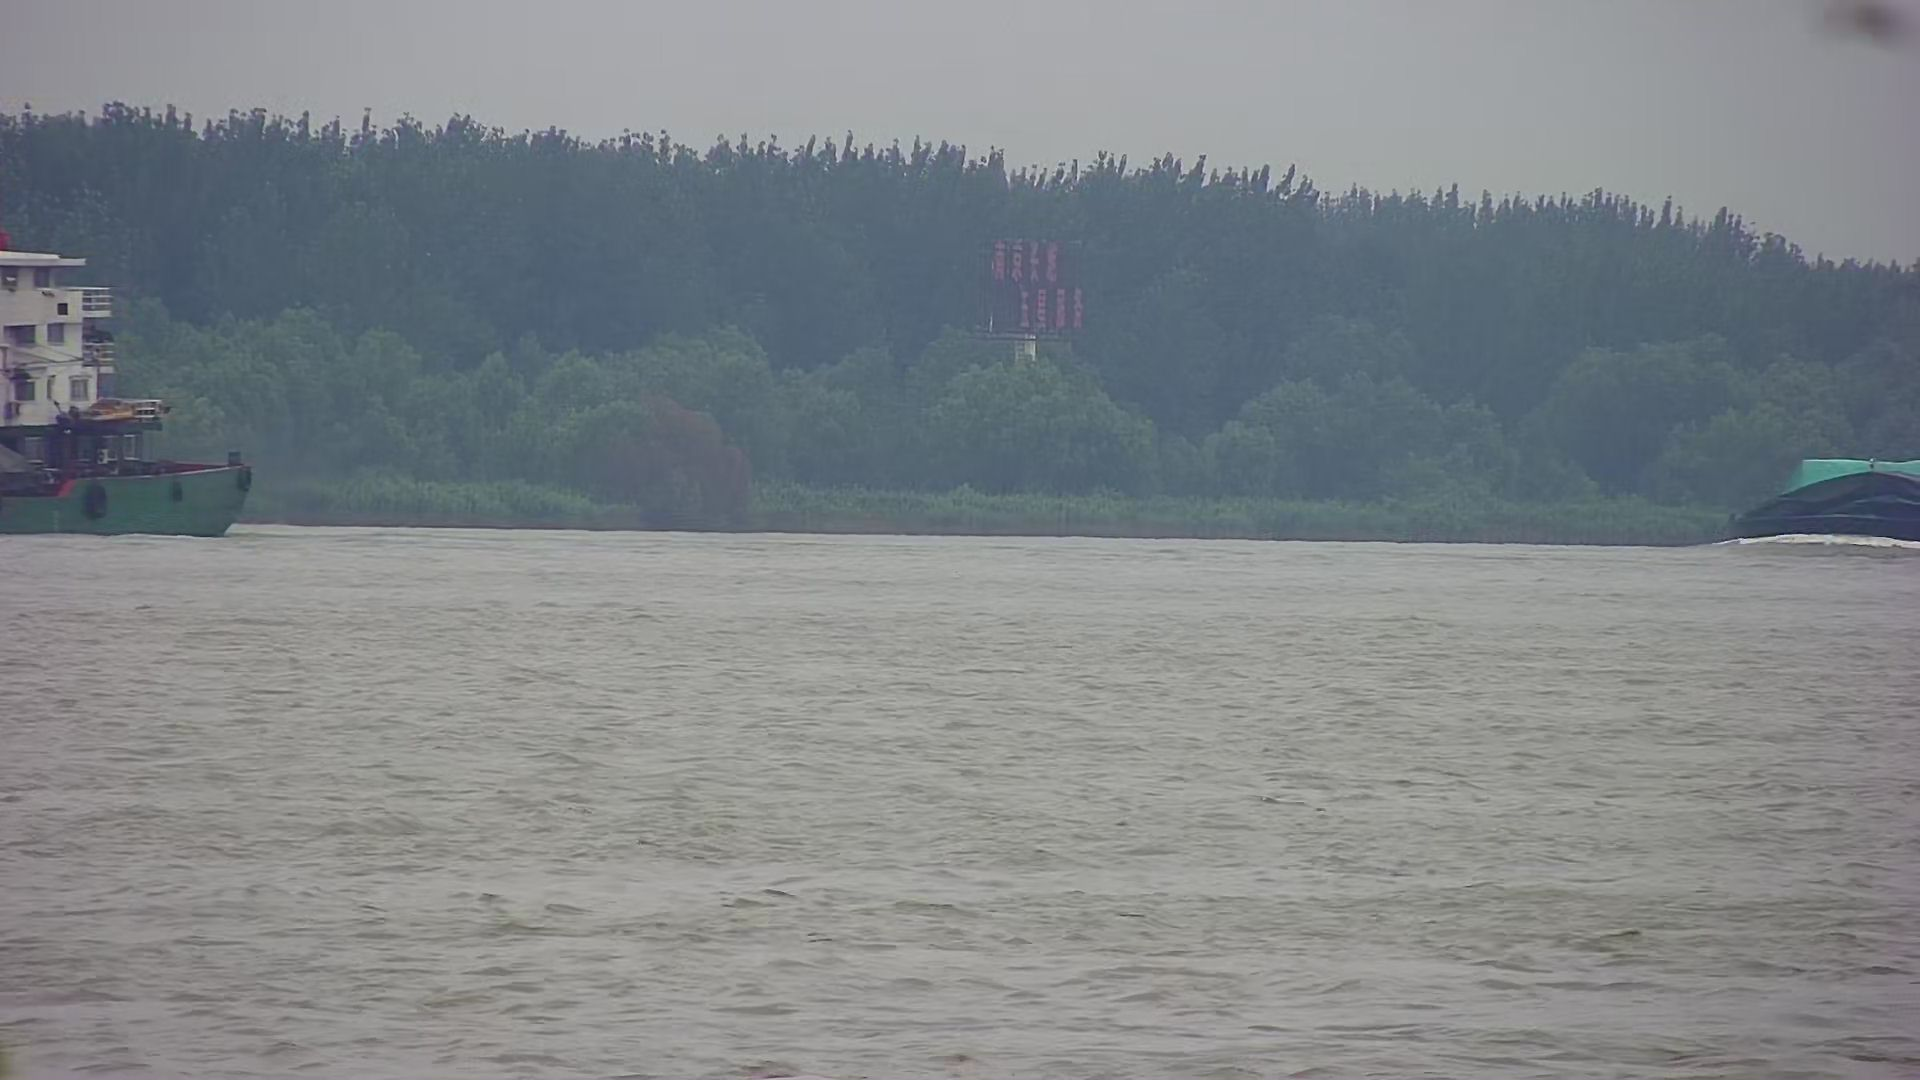ship: (1, 224, 262, 546)
